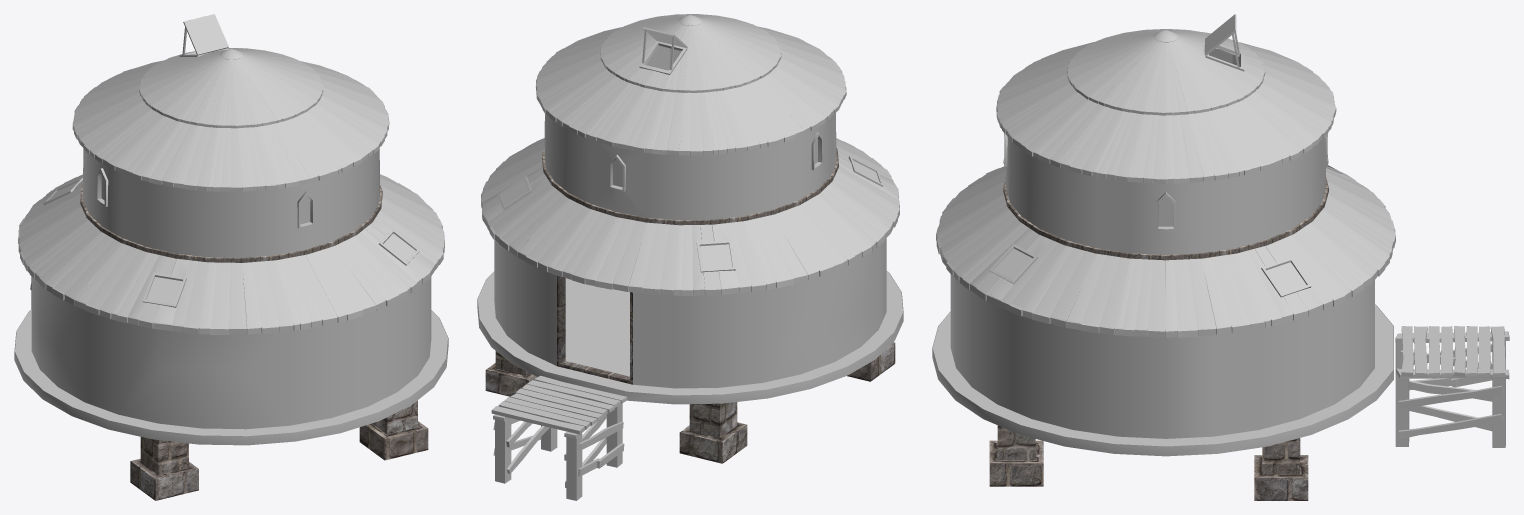
The model's file is ambar.fbx.
3 views of the same model, side by side, from view 1: azimuth 30°, elevation 25°; view 2: azimuth 150°, elevation 25°; view 3: azimuth 270°, elevation 25° (orthographic). The views are drawn at different scales.
Parts seen in each view (by area): view 1: ambar_def; view 2: ambar_def; view 3: ambar_def.
Part boxes in pixels (box(x1,y1,x2,y2)): ambar_def: box(14, 14, 448, 500); ambar_def: box(477, 14, 903, 500); ambar_def: box(932, 14, 1509, 500).
Bounding box in the file's own units: 12.3 × 11.74 × 15.19.
